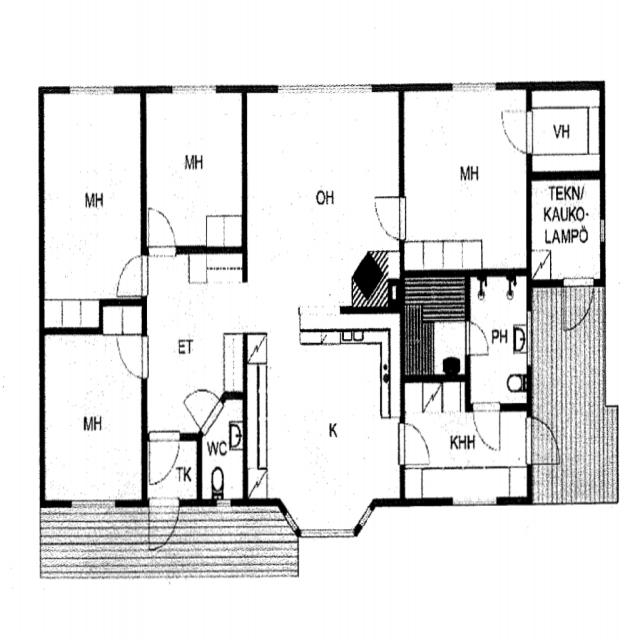door: (198, 391, 245, 500), (496, 106, 538, 160), (145, 429, 182, 488), (112, 329, 152, 382), (371, 189, 411, 242), (524, 414, 561, 471), (144, 200, 180, 258), (397, 416, 434, 471), (560, 277, 594, 335), (470, 400, 504, 456), (149, 499, 181, 558), (114, 252, 151, 300), (182, 387, 217, 434), (463, 318, 489, 361)
window: (446, 74, 498, 105), (63, 77, 120, 104), (67, 494, 119, 522), (166, 77, 224, 102), (448, 494, 502, 514), (276, 501, 303, 541), (523, 308, 536, 366), (212, 494, 237, 514), (597, 215, 609, 249)
zone: (245, 88, 400, 322), (244, 334, 392, 524), (42, 87, 145, 317), (402, 88, 527, 273), (143, 252, 246, 434), (42, 330, 143, 502), (531, 286, 606, 503), (143, 88, 243, 249), (466, 271, 532, 408), (528, 174, 606, 284), (403, 272, 468, 378), (527, 89, 603, 174), (202, 395, 246, 502)
